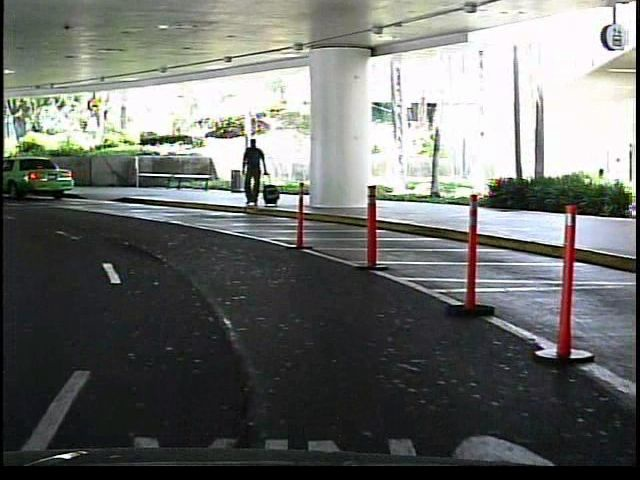person: (238, 135, 270, 210)
